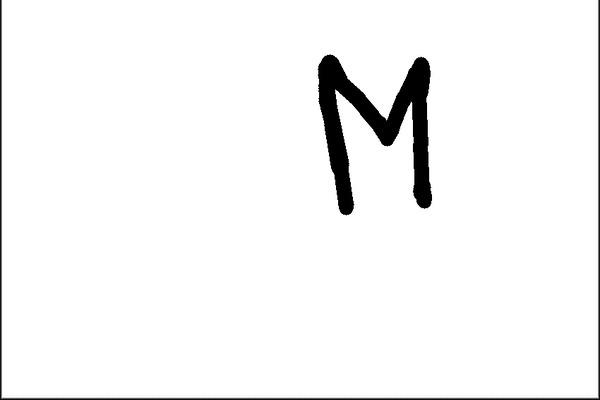M: (313, 46, 440, 212)
